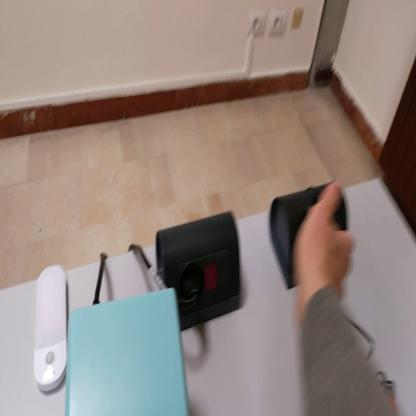hand: (296, 181, 353, 302)
socket: (268, 174, 365, 290), (155, 209, 243, 332)
welder station: (69, 287, 191, 416)
